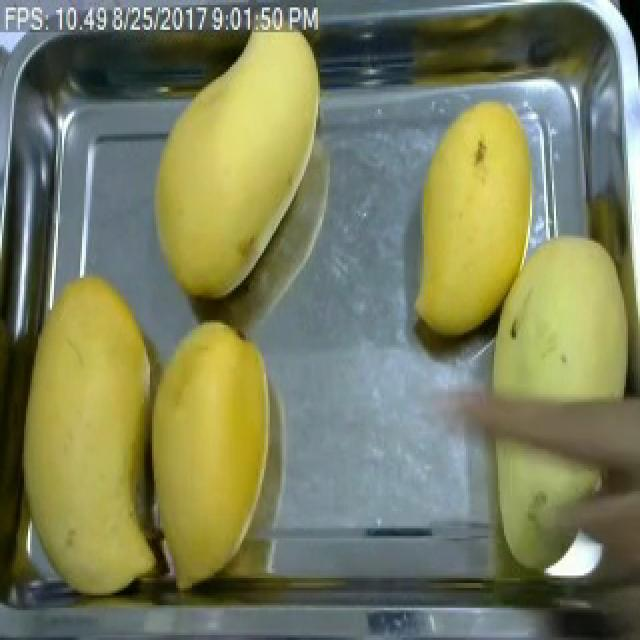fruit: (6, 268, 168, 603), (142, 25, 330, 310), (138, 310, 282, 600), (396, 82, 548, 350), (480, 226, 640, 417), (482, 422, 618, 585)
